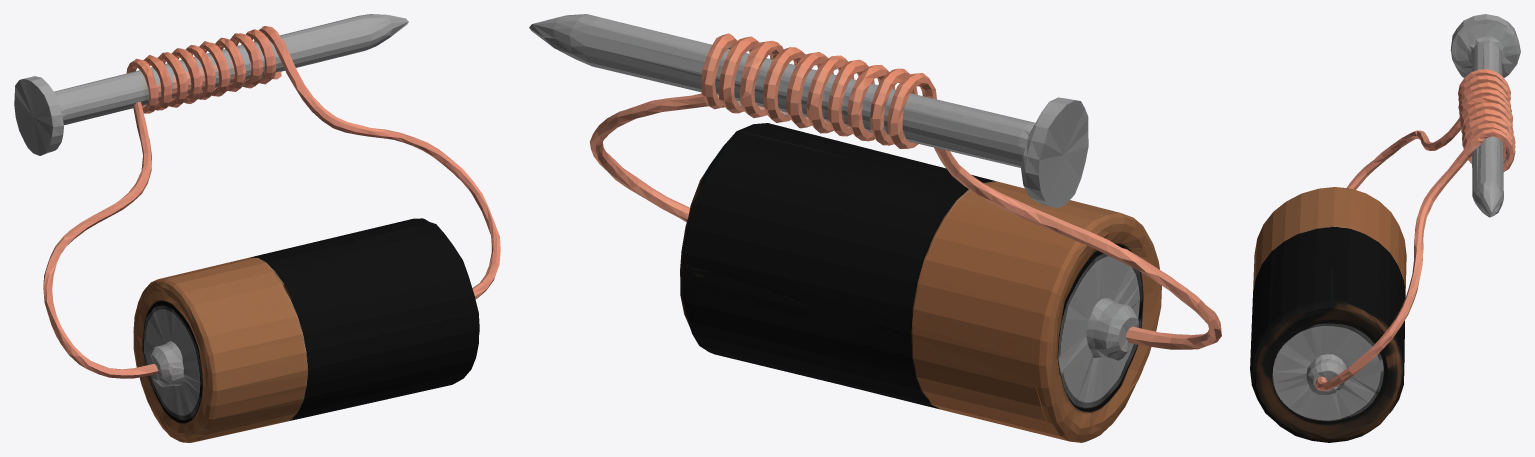
File: Electromagnet.glb
3 renders of one model, left to right at view 1: azimuth 30°, elevation 25°; view 2: azimuth 150°, elevation 25°; view 3: azimuth 270°, elevation 25°, orthographic. The views are drawn at different scales.
Visible parts, largest first — view 1: mesh_node; view 2: mesh_node; view 3: mesh_node.
Boxes of the visible parts, <box> form: mesh_node: <box>14,14,500,442</box>; mesh_node: <box>529,14,1221,442</box>; mesh_node: <box>1250,14,1520,442</box>.
Size of the model in its own units: 1 by 0.6875 by 0.5879.
Materials: 1 (1 with a texture image).
